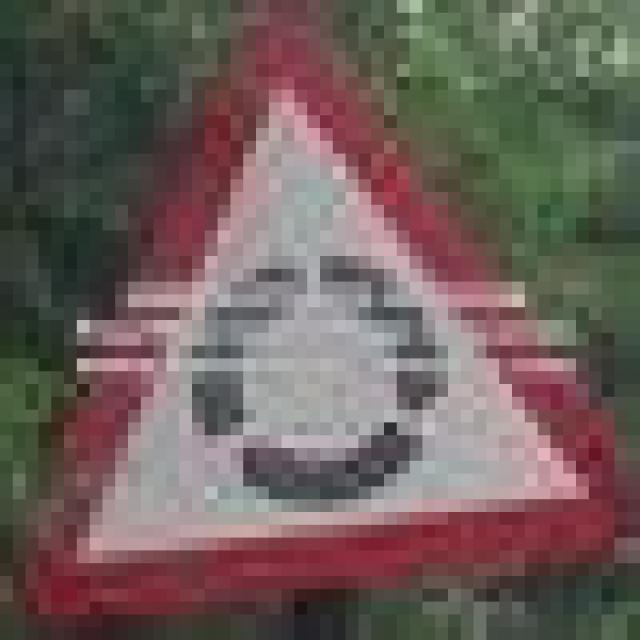ROUNDABOUT: (0, 0, 627, 589)
